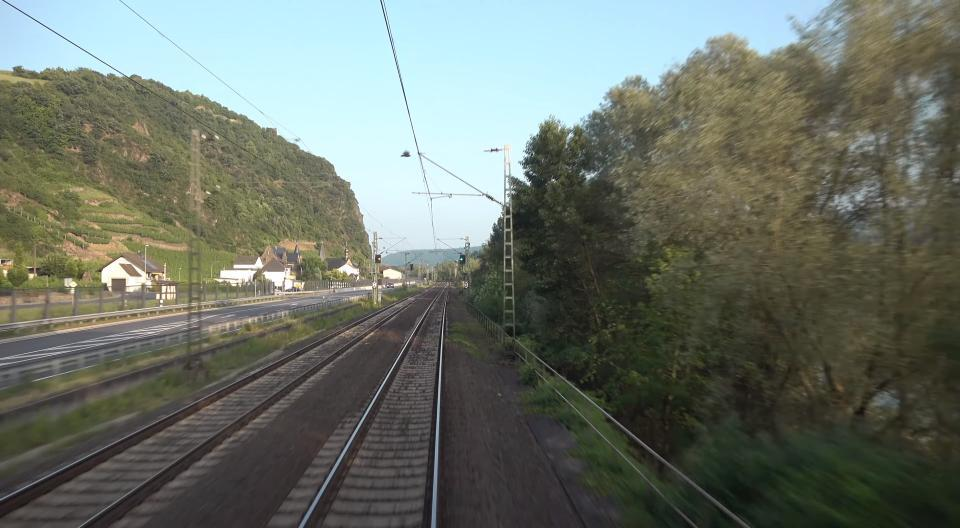Plant: (446, 323, 484, 358)
